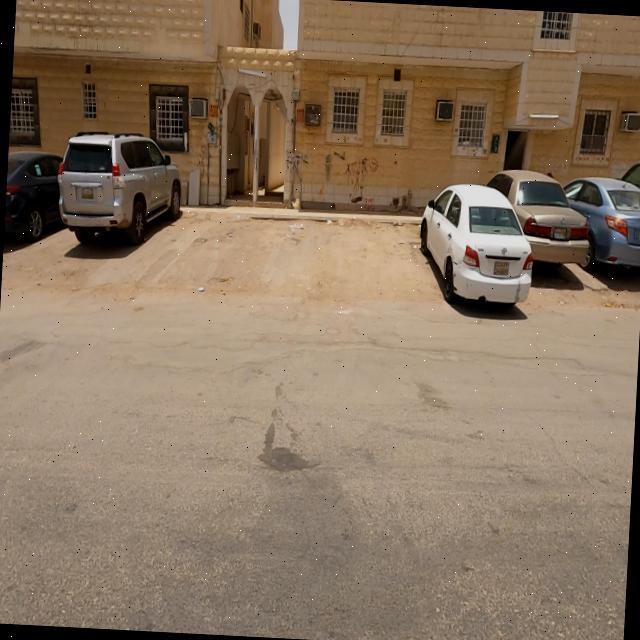Graffiti: (345, 155, 379, 191), (198, 144, 208, 181), (362, 196, 376, 212), (285, 148, 293, 173)
